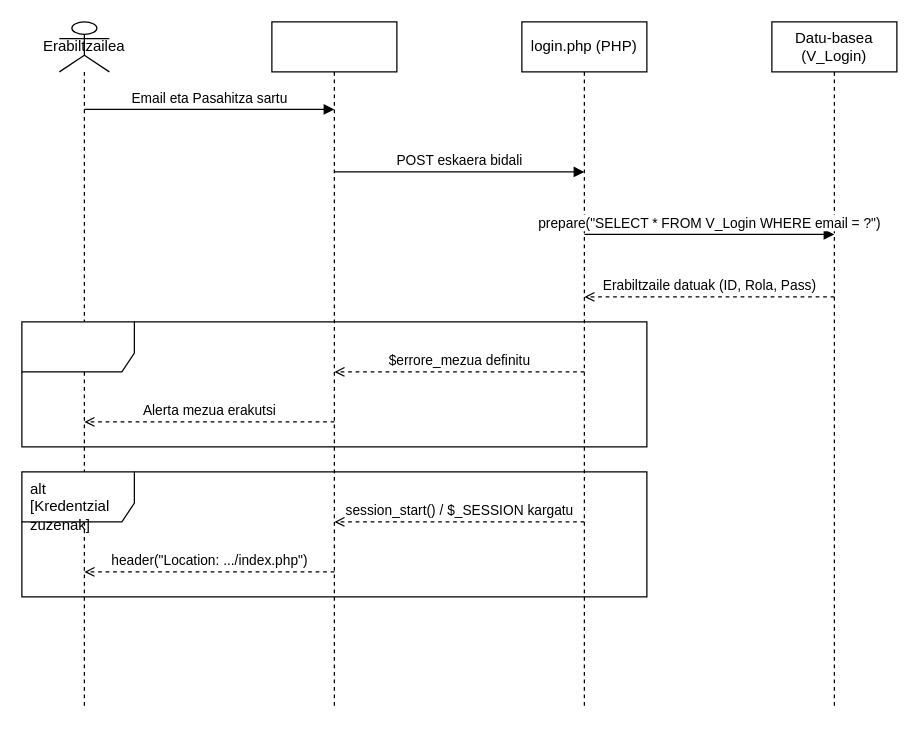
Image size: 919x731. Some labels were removed from this diagram. Here are the shapes that lost their labels. From the top down, the box of each, then its label:
(271, 21, 397, 709): login.php (HTML)
(21, 321, 647, 447): alt [Kredentzial okerrak]
